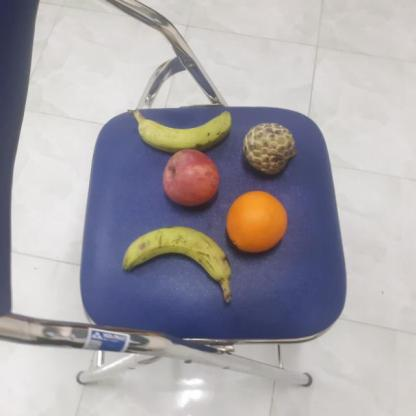annona: (240, 120, 298, 178)
apple: (158, 148, 224, 208)
banana: (121, 223, 232, 284), (135, 109, 232, 151)
orange: (222, 189, 288, 254)
